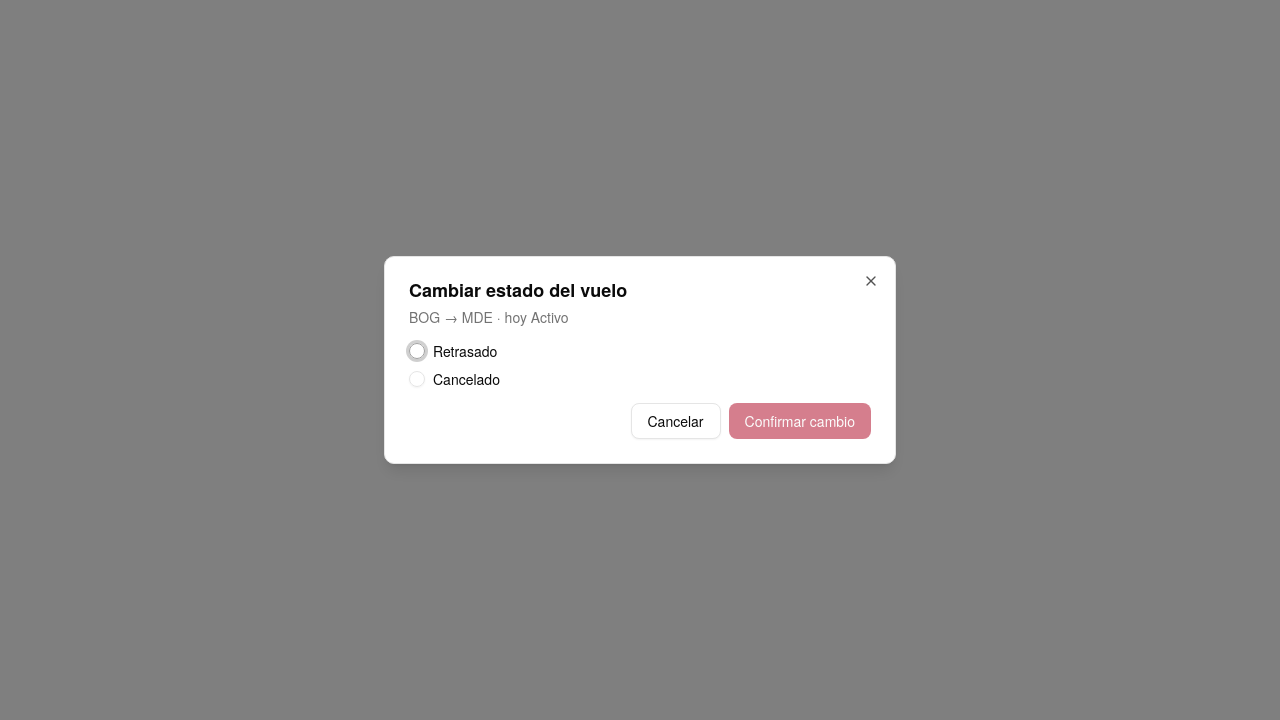
Test case: FlightStatusDialog › avisa cuando el vuelo no tiene reservas pagadas (no hay a quién escribir)
The image size is (1280, 720).
Click the radio button named "Cancelado" next to "Cancelado".
click(417, 379)  # box [409,371,425,387]
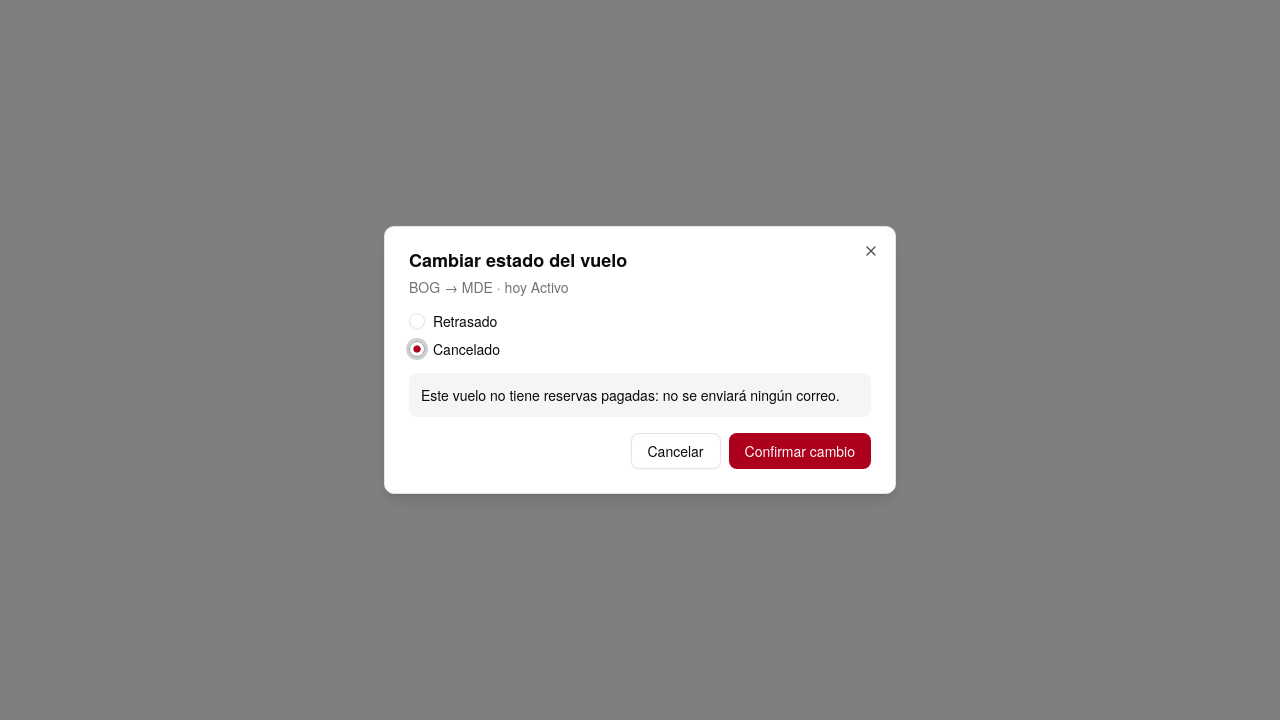
Expected: the text "no tiene reservas pagadas: no se enviará ningún correo" is shown, [421,385,840,405]
